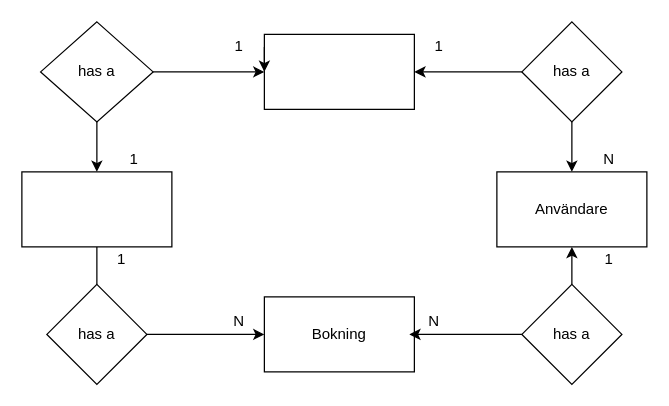
The diagram is 669 pixels wide and 406 high, and some of its shapes have lost their labels. Here are the shapes that lost their labels. From the top down, the box of each, then its label:
(263, 33, 414, 109): Adress
(21, 171, 172, 247): Boende
